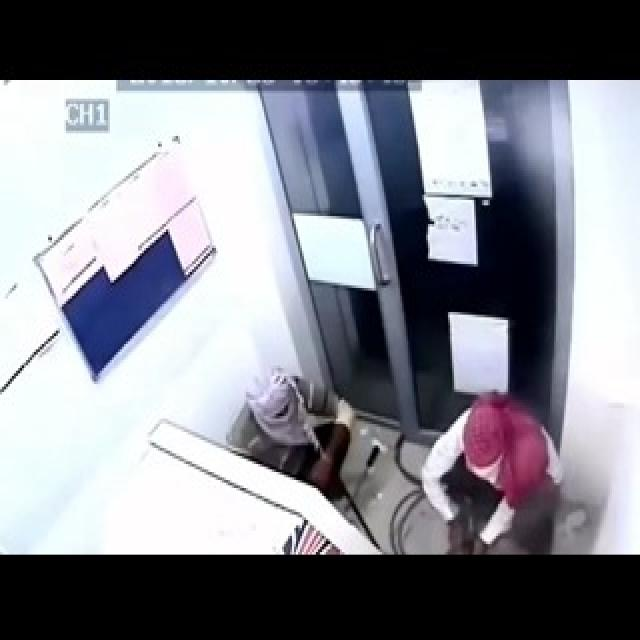thief: (408, 379, 572, 548), (216, 350, 354, 497)
